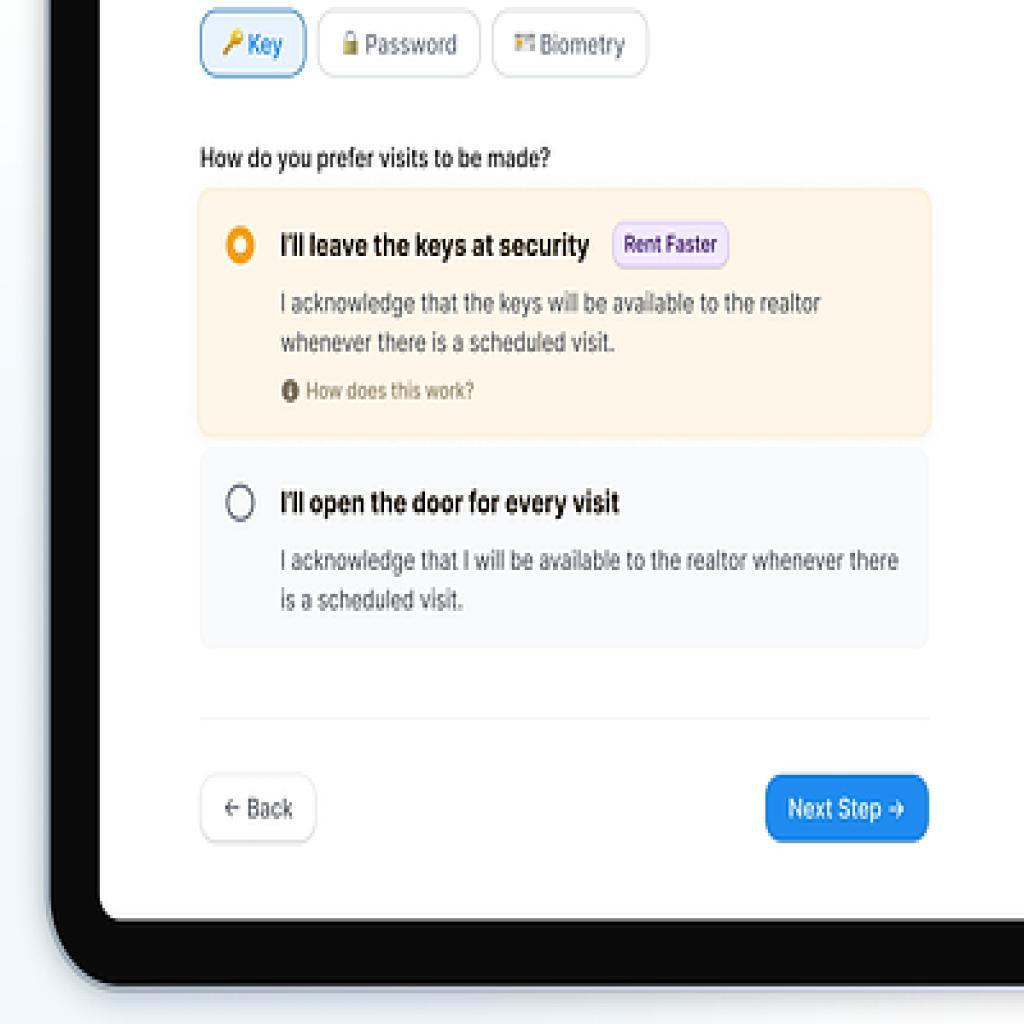button: (766, 772, 931, 843), (320, 6, 480, 79), (490, 11, 650, 81), (199, 776, 320, 845), (197, 6, 308, 79)
radio: (216, 477, 264, 536), (218, 218, 261, 280)
